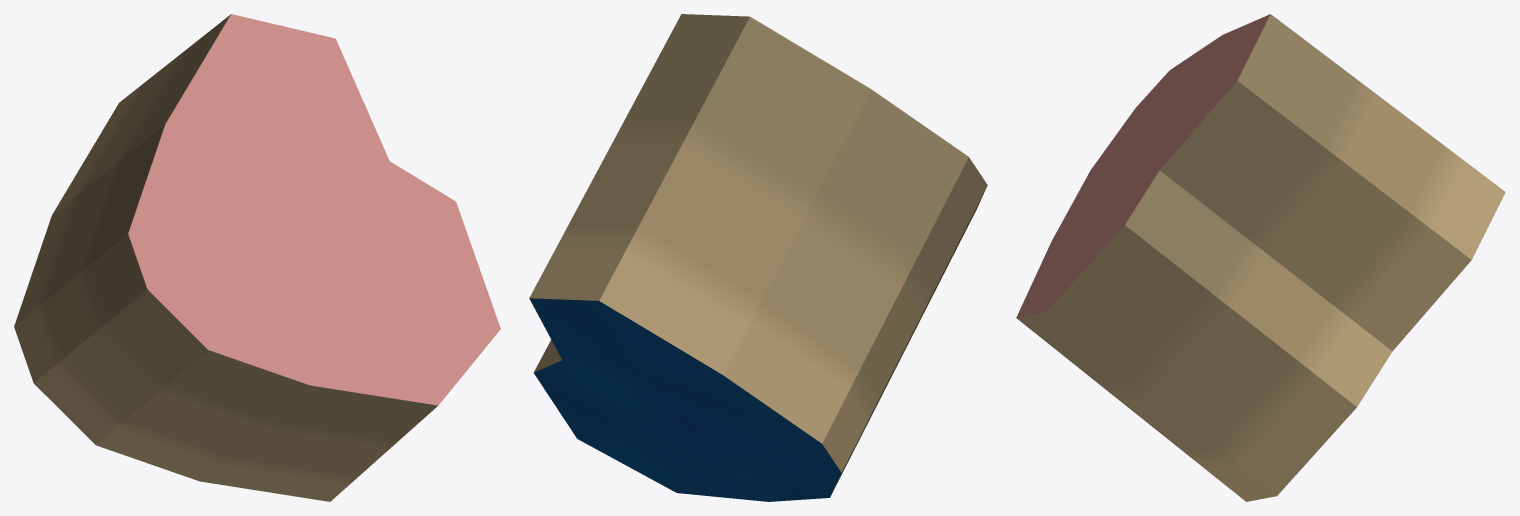
The model's file is 066a_Ireland.glb.
3 renders of one model, left to right at view 1: azimuth 30°, elevation 25°; view 2: azimuth 150°, elevation 25°; view 3: azimuth 270°, elevation 25°, orthographic. The views are drawn at different scales.
Parts seen in each view (by area): view 1: part_0; view 2: part_0; view 3: part_0.
Boxes of the visible parts, x1,y1,x2,y2 form: part_0: (14, 14, 500, 501); part_0: (529, 14, 987, 501); part_0: (1016, 14, 1505, 501).
Bounding box in the file's own units: 0.225 × 0.3297 × 0.3249.
Materials: 1 (1 with a texture image).
